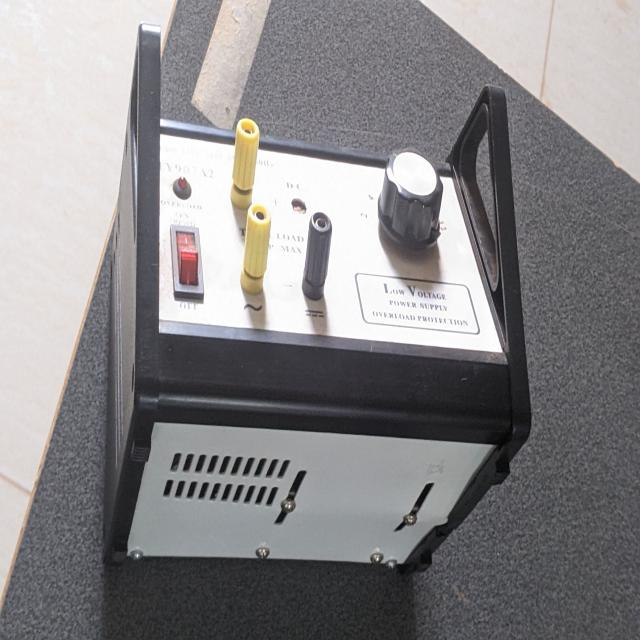AC-AD Regulated Power Supply: (121, 25, 532, 602)
